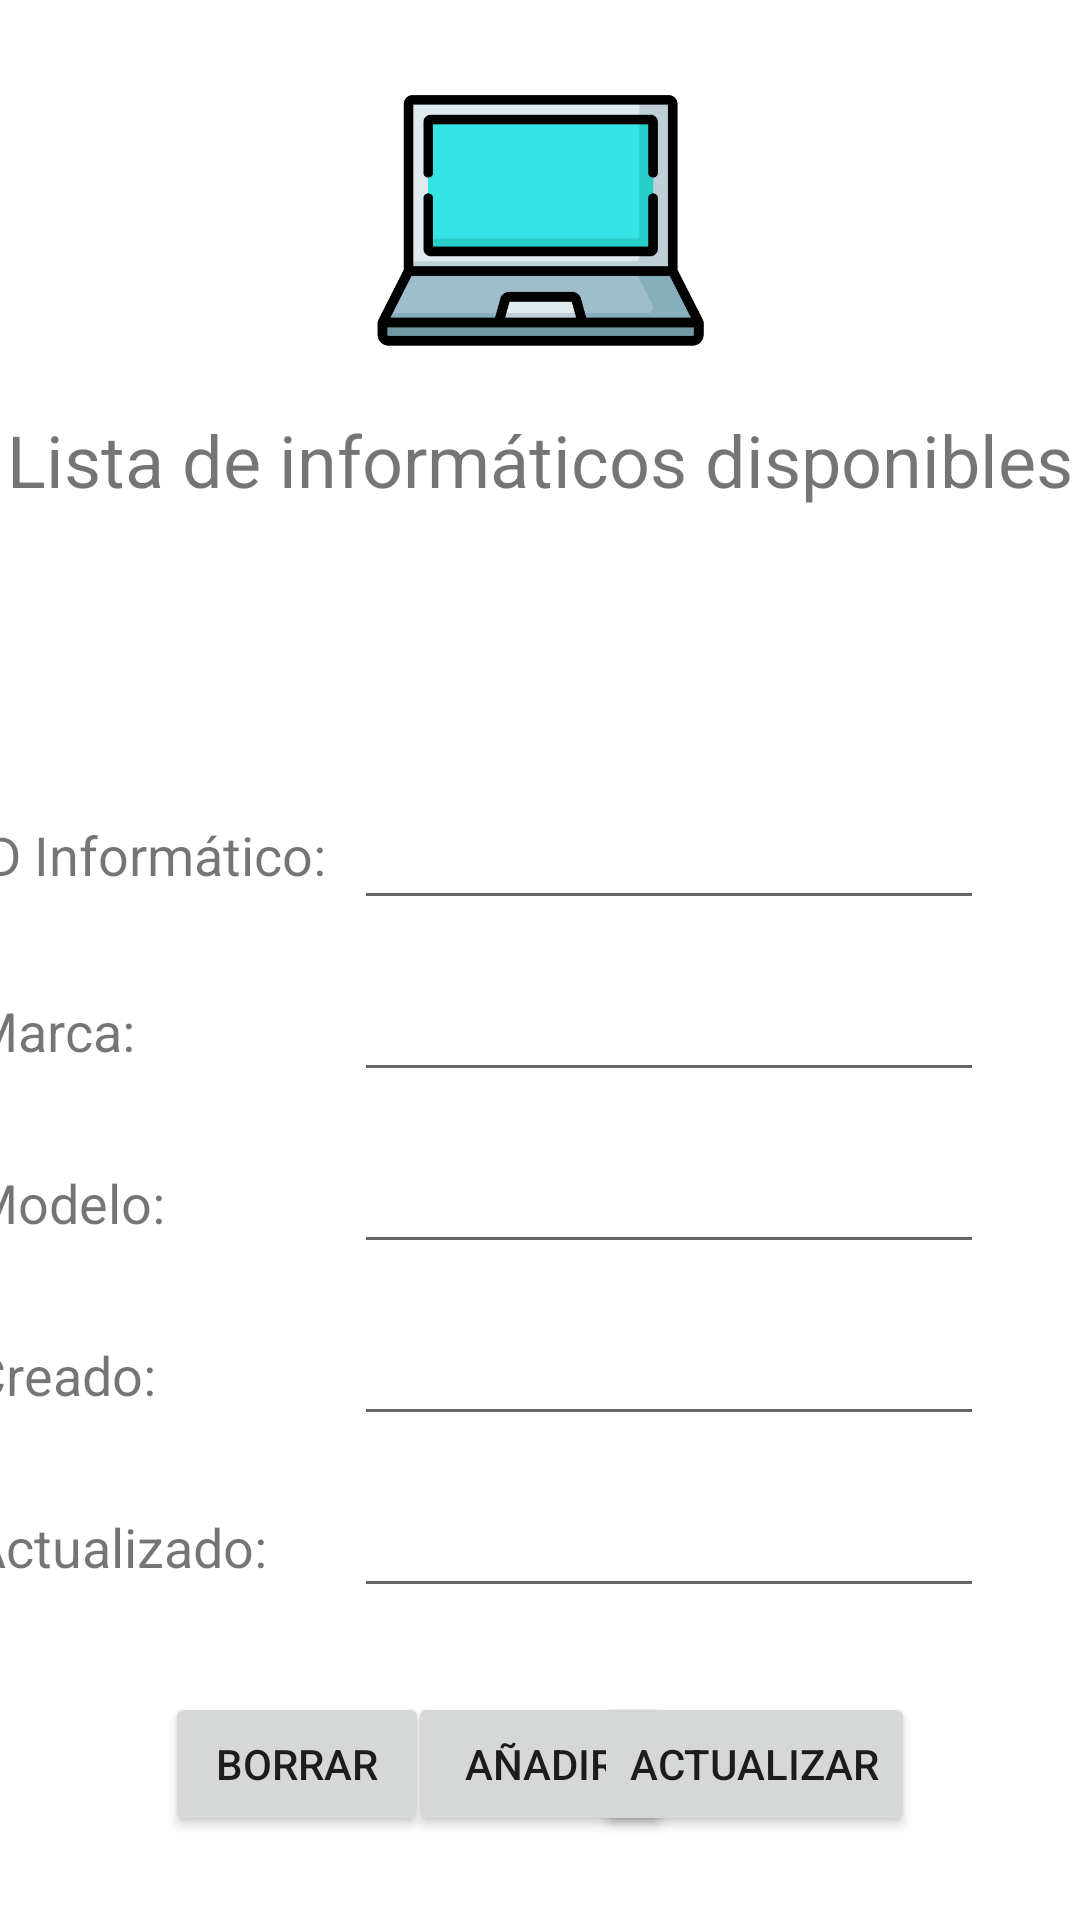

Locate icon controls on the screen. Image size 1080px x 1920px, boxes as box=[x1, y1, x2, y2].
item pc: box=[377, 95, 704, 346]
